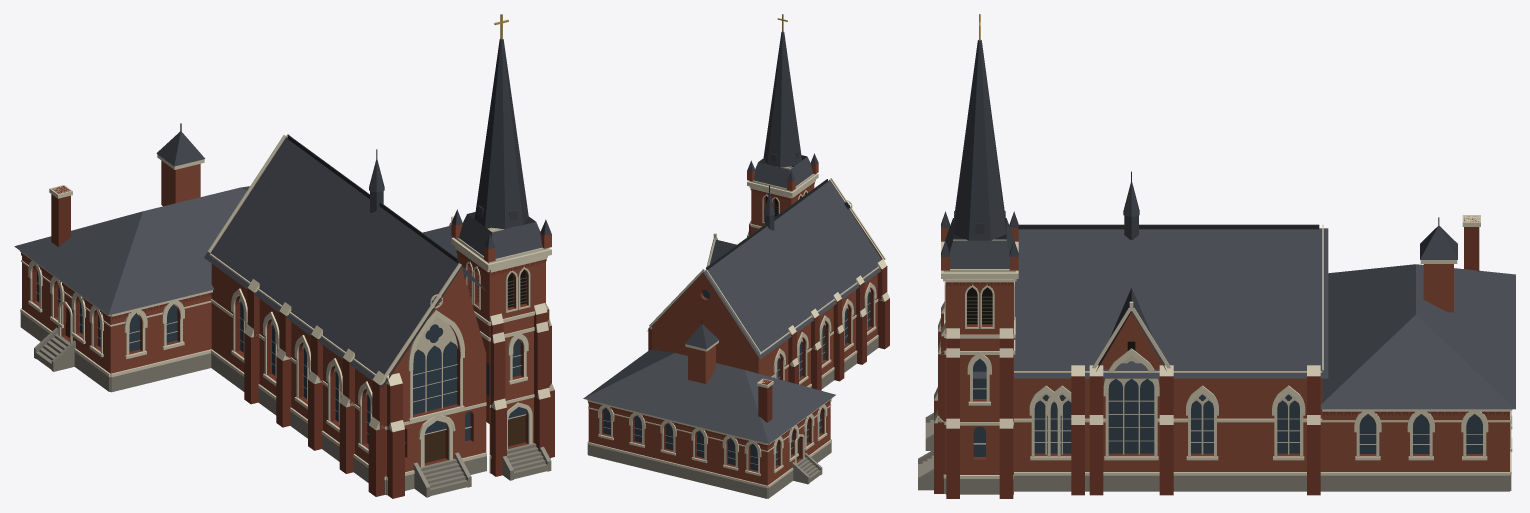
The model's file is ch-greek-orthodox-1961.glb.
The picture shows the model from 3 angles, left to right: view 1: azimuth 30°, elevation 25°; view 2: azimuth 150°, elevation 25°; view 3: azimuth 270°, elevation 25°; orthographic projection. The views are drawn at different scales.
Visible parts, largest first — view 1: ch_slate, ch_brick, ch_brick2, ch_trim, ch_base, ch_slate2, ch_stain, ch_trc, ch_door, ch_iron; view 2: ch_slate, ch_brick, ch_trim, ch_brick2, ch_slate2, ch_base, ch_stain, ch_trc, ch_iron; view 3: ch_slate, ch_brick, ch_trim, ch_brick2, ch_stain, ch_base, ch_slate2, ch_trc, ch_iron, ch_shadow.
Boxes of the visible parts, x1,y1,x2,y2 form: ch_slate: (14,137,542,388); ch_brick: (22,160,551,476); ch_brick2: (21,186,554,498); ch_trim: (20,134,554,480); ch_base: (20,313,551,497); ch_slate2: (156,38,551,257); ch_stain: (37,270,526,443); ch_trc: (35,267,521,434); ch_door: (65,307,525,462); ch_iron: (180,123,458,263); ch_slate: (583,155,887,443); ch_brick: (588,163,882,485); ch_trim: (587,166,889,488); ch_brick2: (588,182,889,472); ch_slate2: (684,31,818,349); ch_base: (587,337,878,498); ch_stain: (603,202,869,470); ch_trc: (603,200,871,464); ch_iron: (701,179,827,323); ch_slate: (945,218,1515,409); ch_brick: (941,228,1509,474); ch_trim: (934,215,1512,478); ch_brick2: (934,216,1508,498); ch_stain: (973,358,1482,456); ch_base: (918,413,1511,494); ch_slate2: (941,40,1457,371); ch_trc: (973,355,1482,454); ch_iron: (1009,171,1439,229); ch_shadow: (967,287,1135,350).
Bounding box in the file's own units: 23.15 × 33.66 × 39.2.
